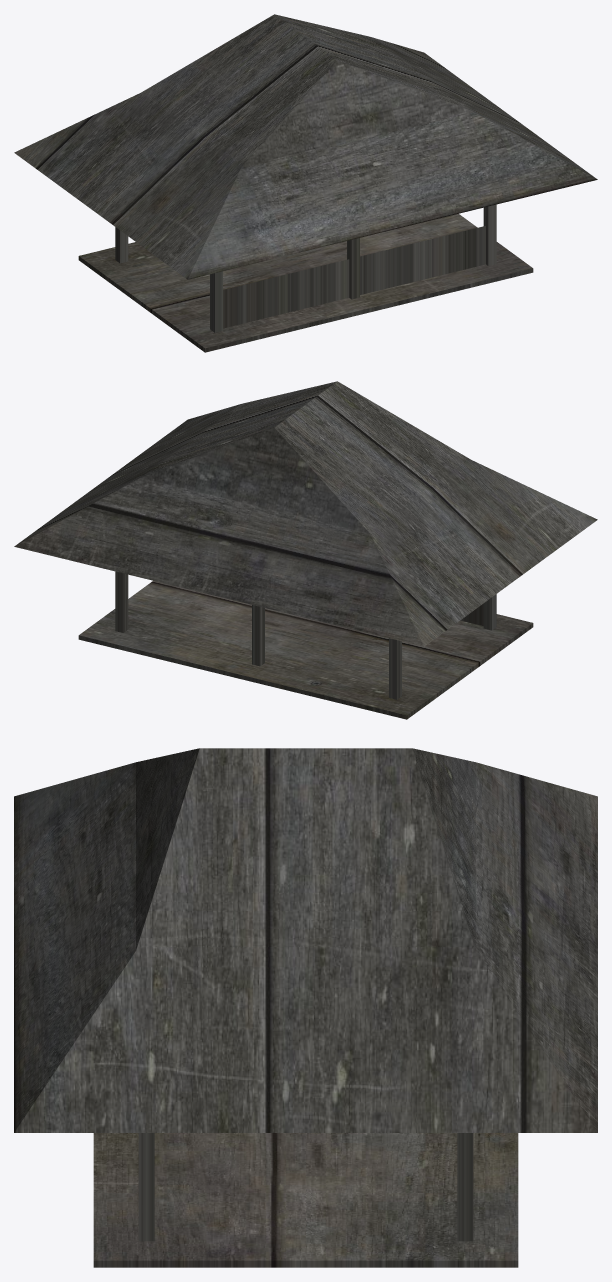
Rendered from communal_house.glb.
3 views of the same model, one above another, from view 1: azimuth 30°, elevation 25°; view 2: azimuth 150°, elevation 25°; view 3: azimuth 270°, elevation 25° (orthographic). The views are drawn at different scales.
Parts seen in each view (by area): view 1: CommunalHouse; view 2: CommunalHouse; view 3: CommunalHouse.
Part boxes in pixels (x1,y1,x2,y2): CommunalHouse: (14, 14, 597, 352); CommunalHouse: (14, 381, 597, 719); CommunalHouse: (14, 748, 597, 1267).
Size of the model in its own units: 15 by 8 by 11.
Materials: 1 (1 with a texture image).
